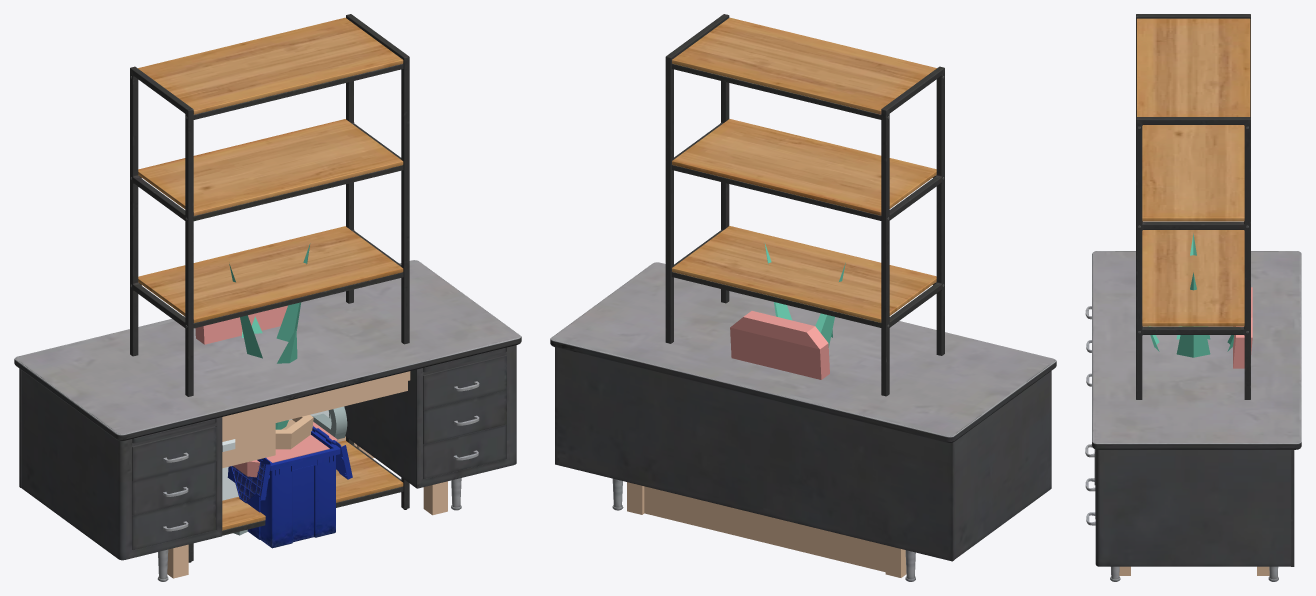
3 views of the same model, side by side, from view 1: azimuth 30°, elevation 25°; view 2: azimuth 150°, elevation 25°; view 3: azimuth 270°, elevation 25° (orthographic). The views are drawn at different scales.
Parts seen in each view (by area): view 1: metal_office_desk, steel_frame_shelves_01, industrial_pastic_container, desk(Clone), chair, metal_office_desk_drawer_04, metal_office_desk_drawer_01, metal_office_desk_drawer_03, metal_office_desk_drawer_02, metal_office_desk_drawer_06, metal_office_desk_drawer_05, plant (+3 smaller); view 2: metal_office_desk, steel_frame_shelves_01, desk(Clone), chair, plant; view 3: metal_office_desk, steel_frame_shelves_01, plant, chair.
Boxes of the visible parts, box(x1,y1,x2,y2) form: metal_office_desk: box(14, 260, 521, 581); steel_frame_shelves_01: box(130, 14, 409, 562); industrial_pastic_container: box(247, 426, 340, 548); desk(Clone): box(167, 371, 447, 578); chair: box(195, 305, 347, 477); metal_office_desk_drawer_04: box(132, 426, 216, 481); metal_office_desk_drawer_01: box(423, 355, 506, 410); metal_office_desk_drawer_03: box(423, 424, 506, 479); metal_office_desk_drawer_02: box(423, 390, 506, 444); metal_office_desk_drawer_06: box(132, 495, 215, 550); metal_office_desk_drawer_05: box(132, 461, 215, 515); plant: box(229, 243, 310, 429); metal_office_desk: box(550, 262, 1056, 581); steel_frame_shelves_01: box(665, 14, 944, 396); desk(Clone): box(627, 482, 906, 577); chair: box(730, 311, 829, 379); plant: box(764, 243, 845, 347); metal_office_desk: box(1092, 251, 1301, 581); steel_frame_shelves_01: box(1136, 14, 1250, 399); plant: box(1148, 233, 1234, 357); chair: box(1233, 287, 1252, 368).
Size of the model in its own units: 2 by 2.14 by 0.9472.
10 materials, 3 textured.
